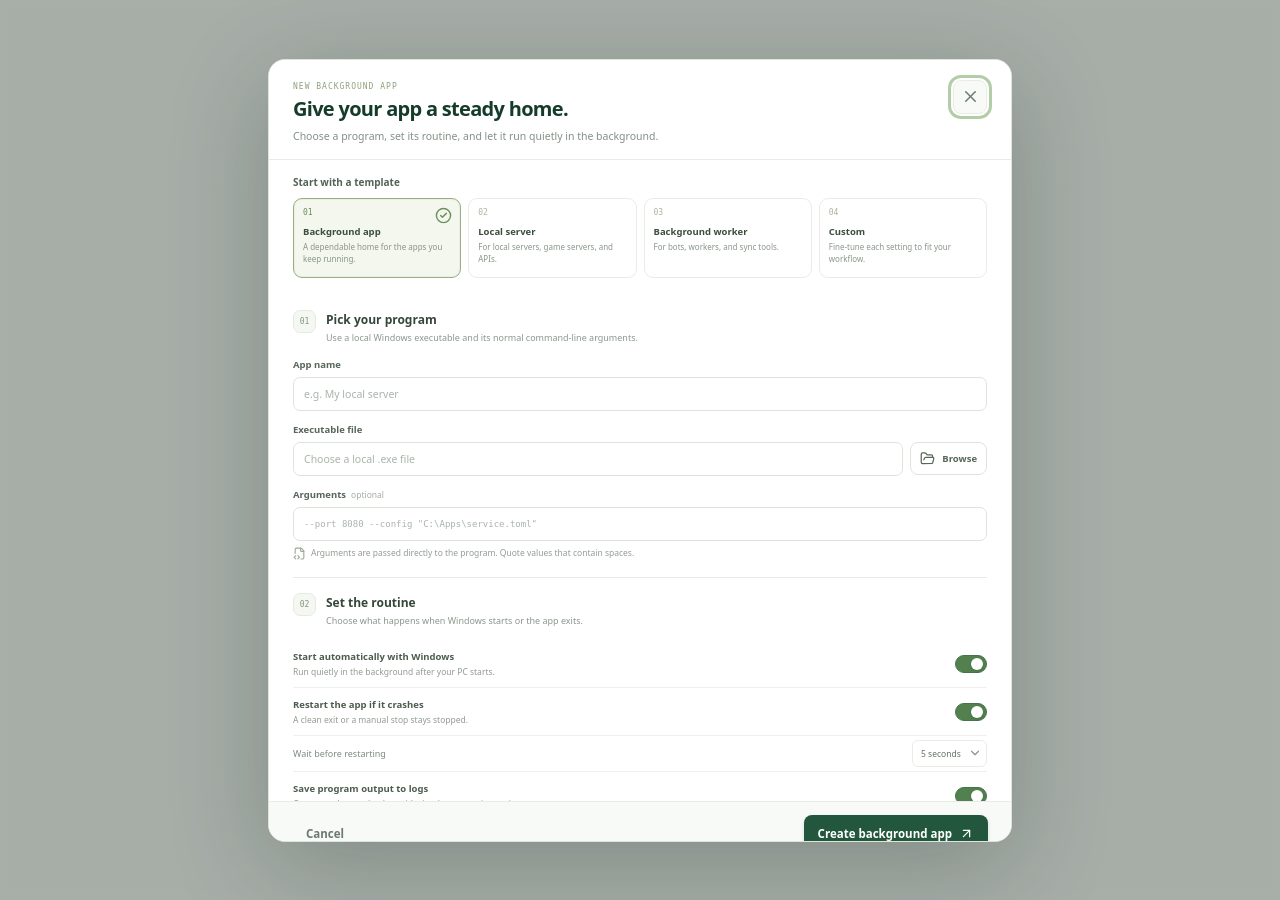
AppForm › changes behavior defaults without replacing the chosen program
Type "Local API" into the field labelled "App name" at (640, 394), box [293,377,987,411]
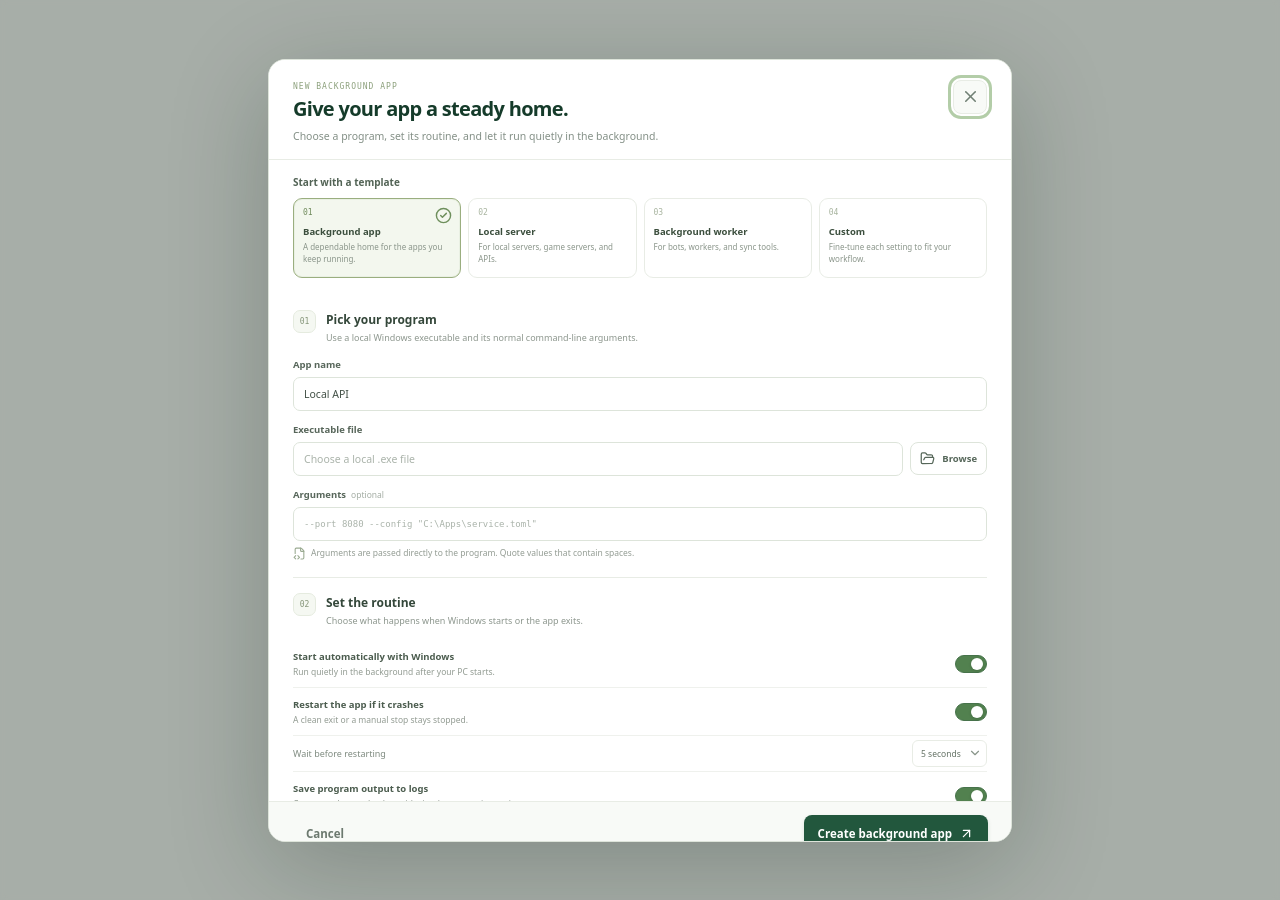
Type "C:\\Tools\\api.exe" into the field labelled "Executable file" at (598, 459), box [293,442,903,476]
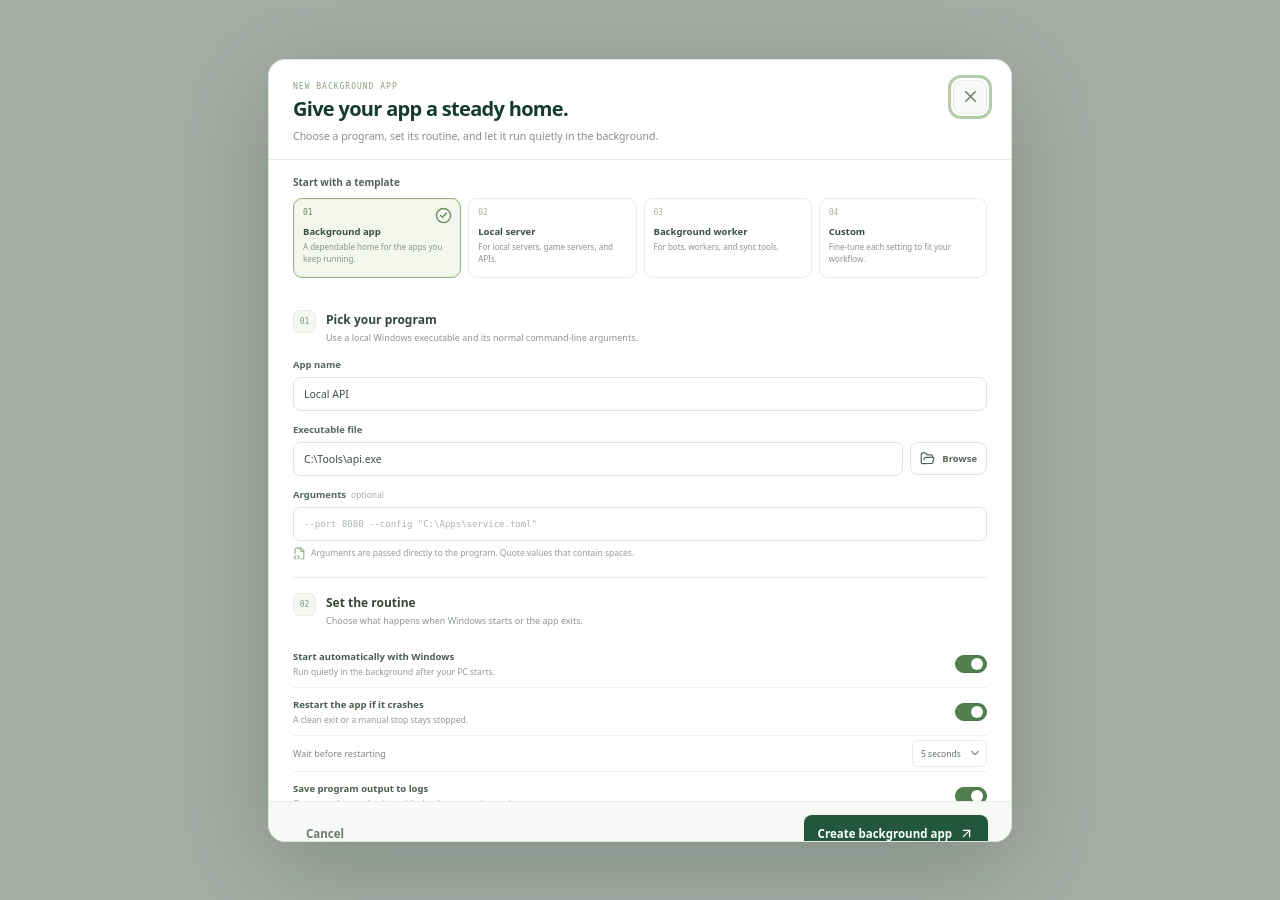
Click the button "04 Custom Fine-tune each setting to fit your workflow." at (903, 238), box [819,198,987,278]
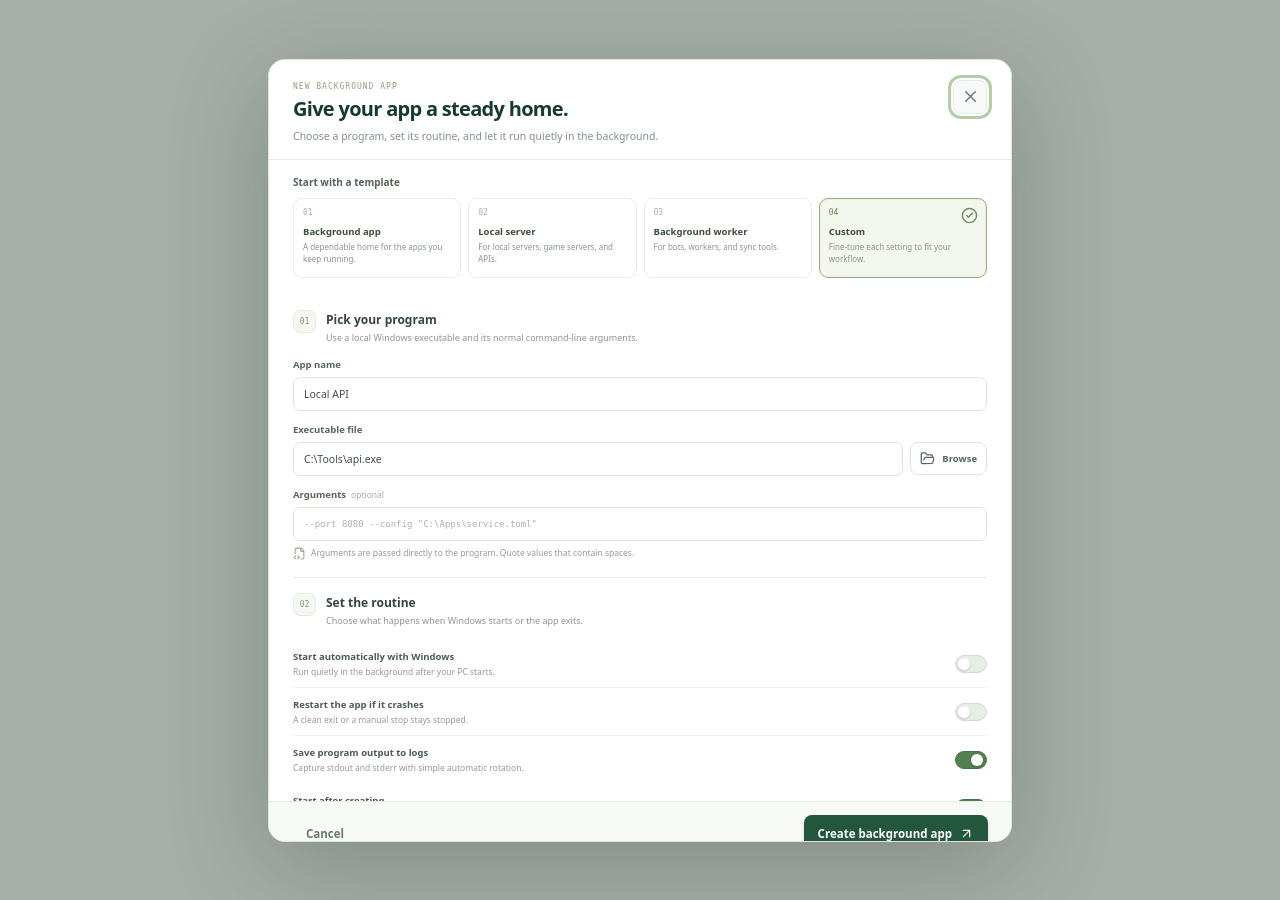
Expected: the 3rd checkbox is checked, [955,751,987,769]
Now the 1st checkbox is not checked, box [955,655,987,673]
Now the 2nd checkbox is not checked, box [955,703,987,721]
